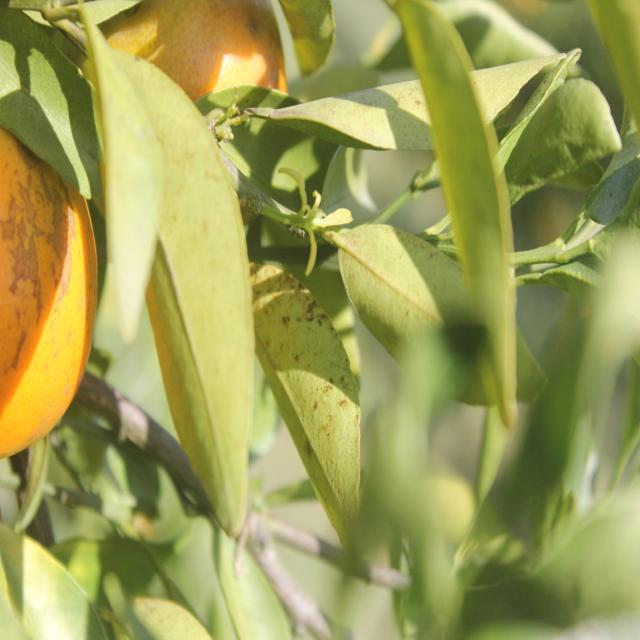melanose: (104, 60, 253, 494), (249, 258, 370, 531), (260, 55, 546, 153)
